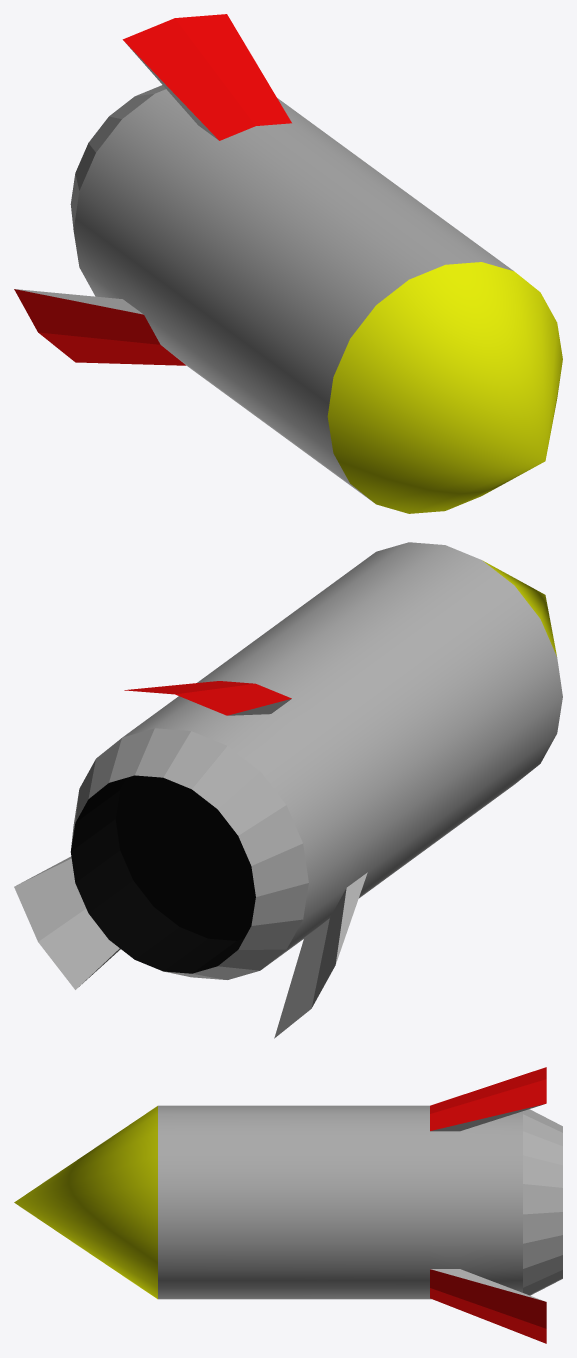
The model's file is missile.fbx.
The picture shows the model from 3 angles, top to bottom: view 1: azimuth 30°, elevation 25°; view 2: azimuth 150°, elevation 25°; view 3: azimuth 270°, elevation 25°; orthographic projection. The views are drawn at different scales.
Visible parts, largest first — view 1: pasted__pCylinder10; view 2: pasted__pCylinder10; view 3: pasted__pCylinder10.
Part boxes in pixels (x1=…): pasted__pCylinder10: x1=14, y1=14, x2=562, y2=513; pasted__pCylinder10: x1=14, y1=542, x2=562, y2=1038; pasted__pCylinder10: x1=14, y1=1067, x2=562, y2=1343.
Bounding box in the file's own units: 0.3382 × 0.3216 × 0.696.
